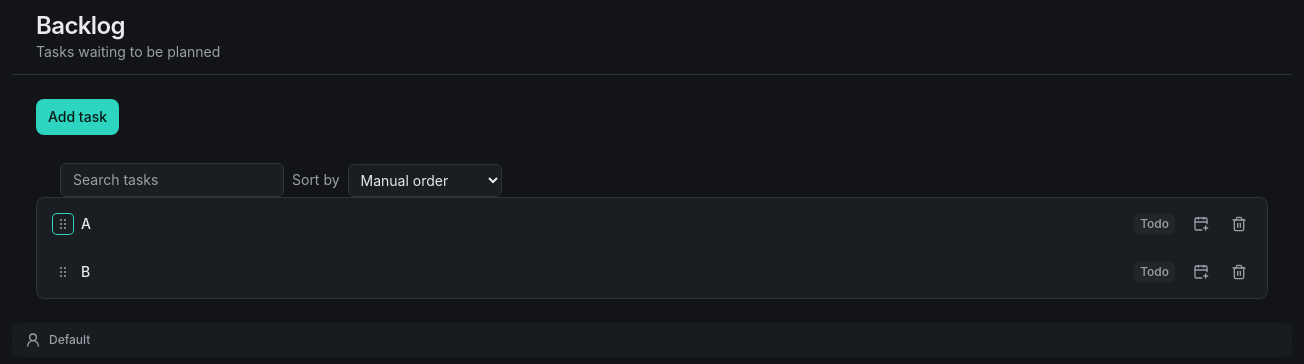
Test: BacklogPage › a reorder failure from the old profile does not follow the switch
Press Space in the button named "Reorder A", box [53,214,73,234]
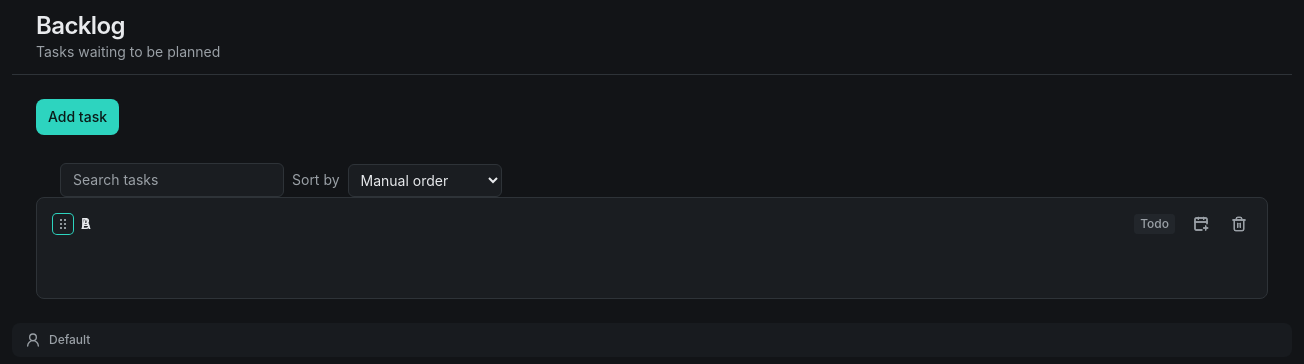
Press ArrowDown
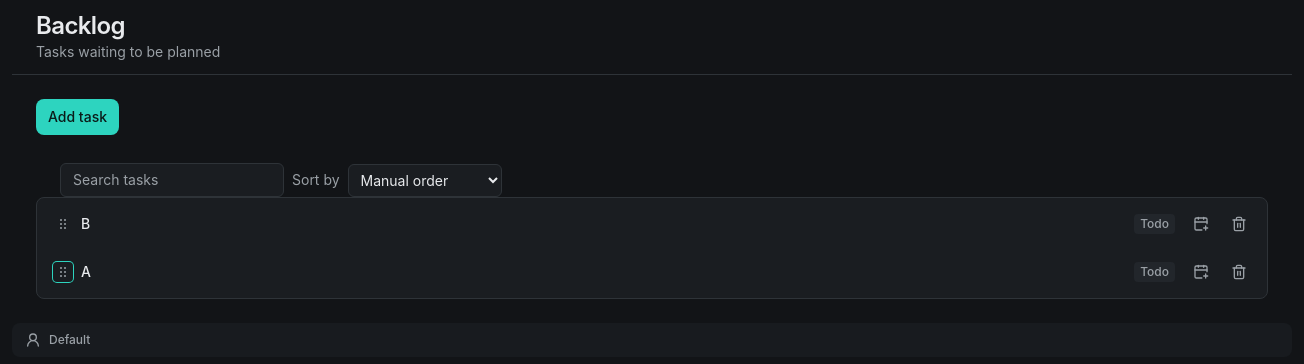
Press Space
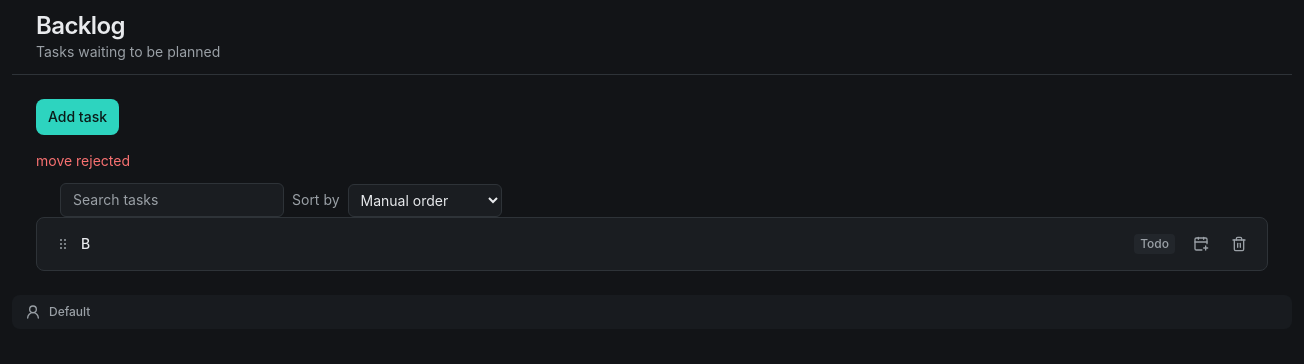
Expected: the message reads "move rejected", [36,152,130,169]
Click the button "Default": [70, 312] box [12,295,1292,329]
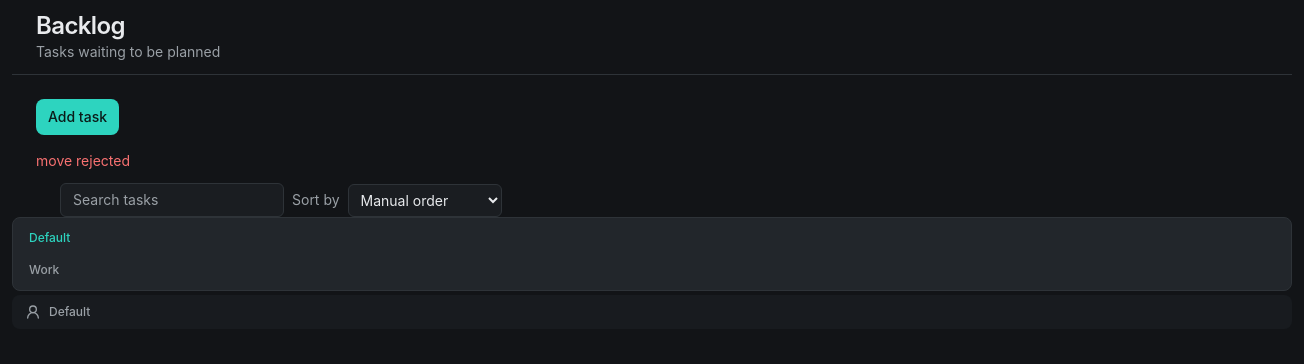
Click the menu item "Work": [44, 270] box [17,254,1287,286]
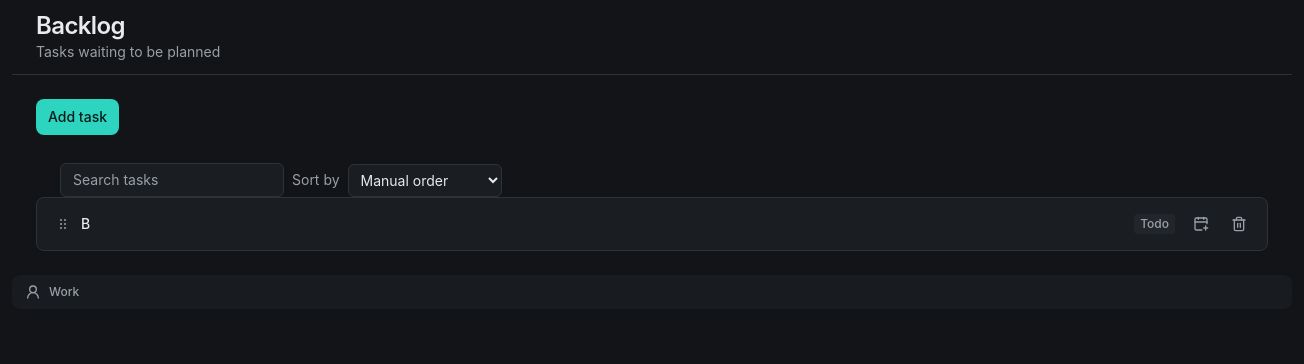
Expected: the button "B" is shown, [81,214,90,234]
Expected: the message "move rejected" is gone
